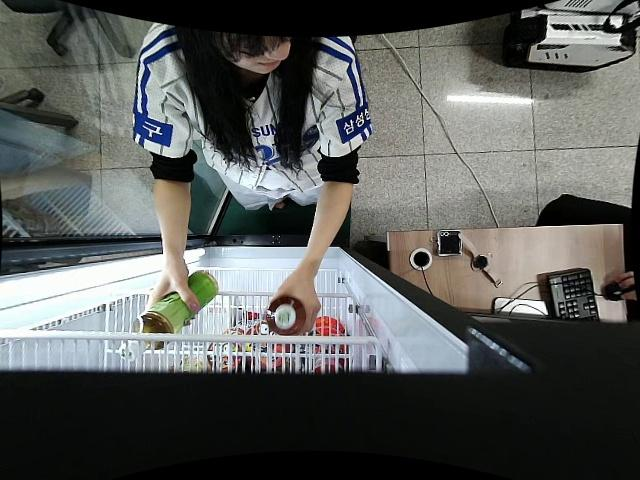00_hand: (144, 261, 202, 321), (271, 272, 322, 335)
19_17cha: (134, 271, 218, 351), (266, 296, 304, 340)
